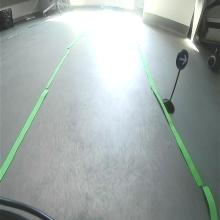right: (176, 48, 190, 71)
